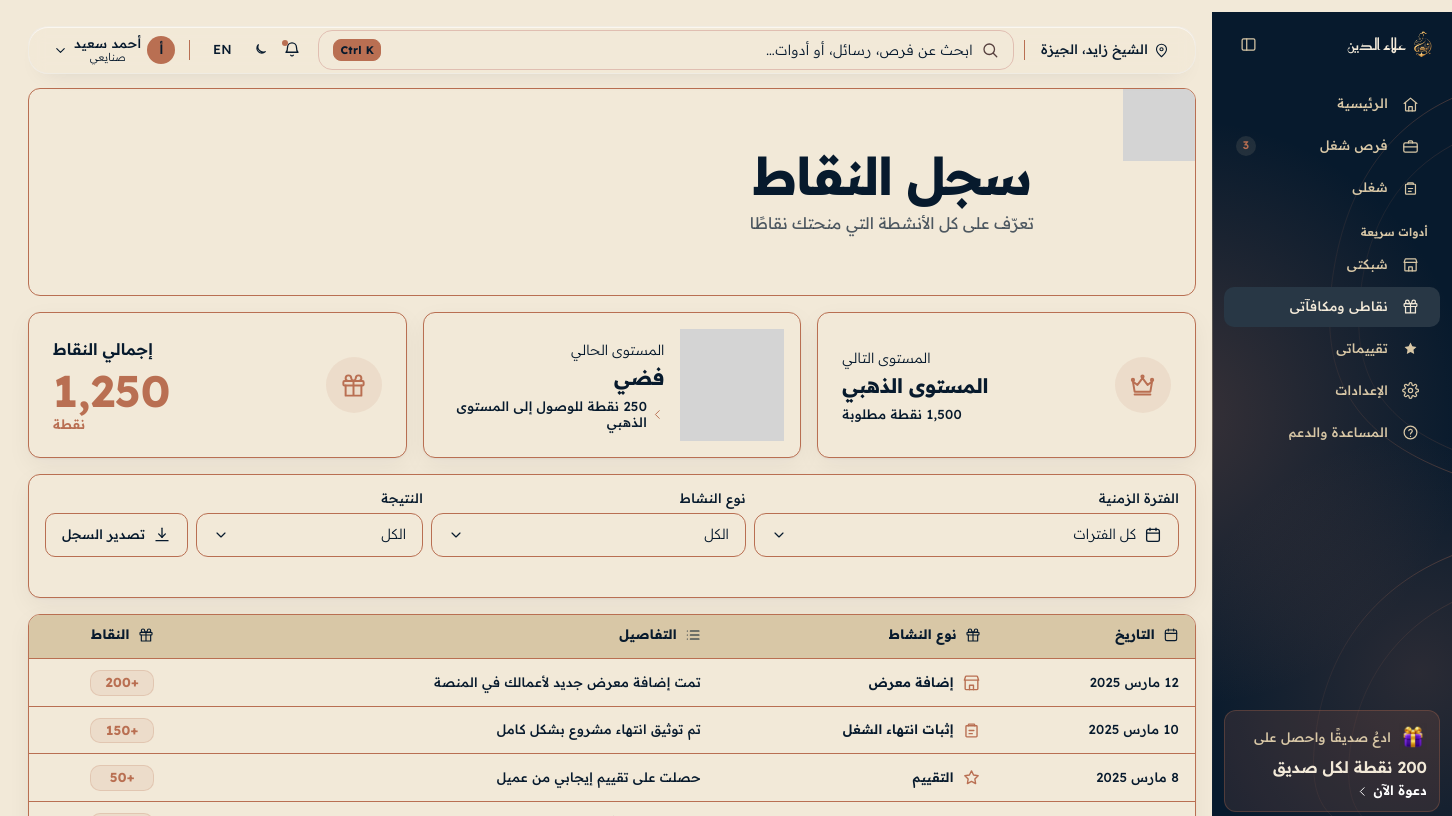
Test: PointsHistoryPage › filters the preview fixture locally
Click the button "كل الفترات" at (1105, 534), box [754,513,1179,557]
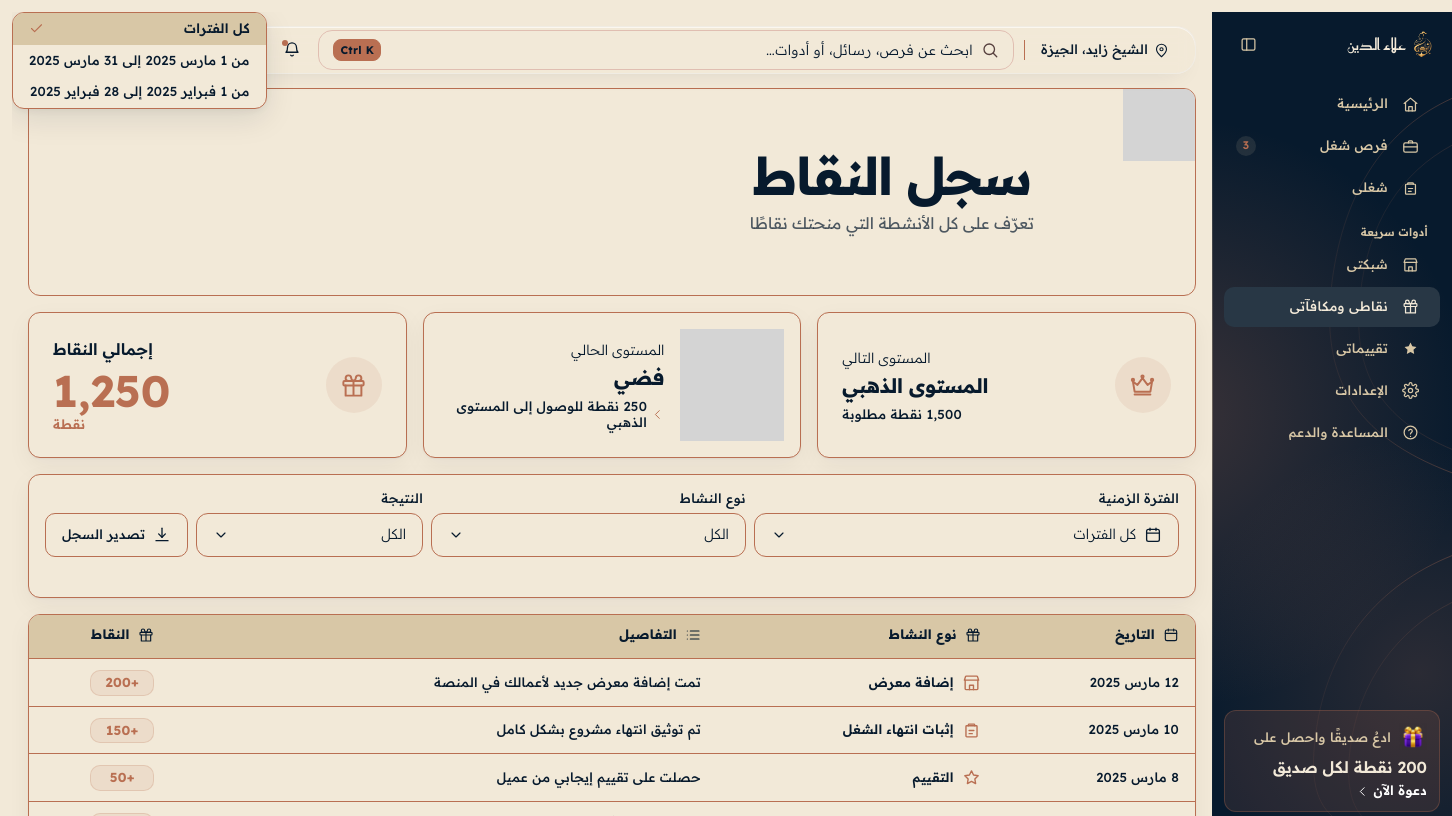
Click the menu item "من 1 فبراير 2025 إلى 28 فبراير 2025" at (139, 92), box [13,76,266,108]
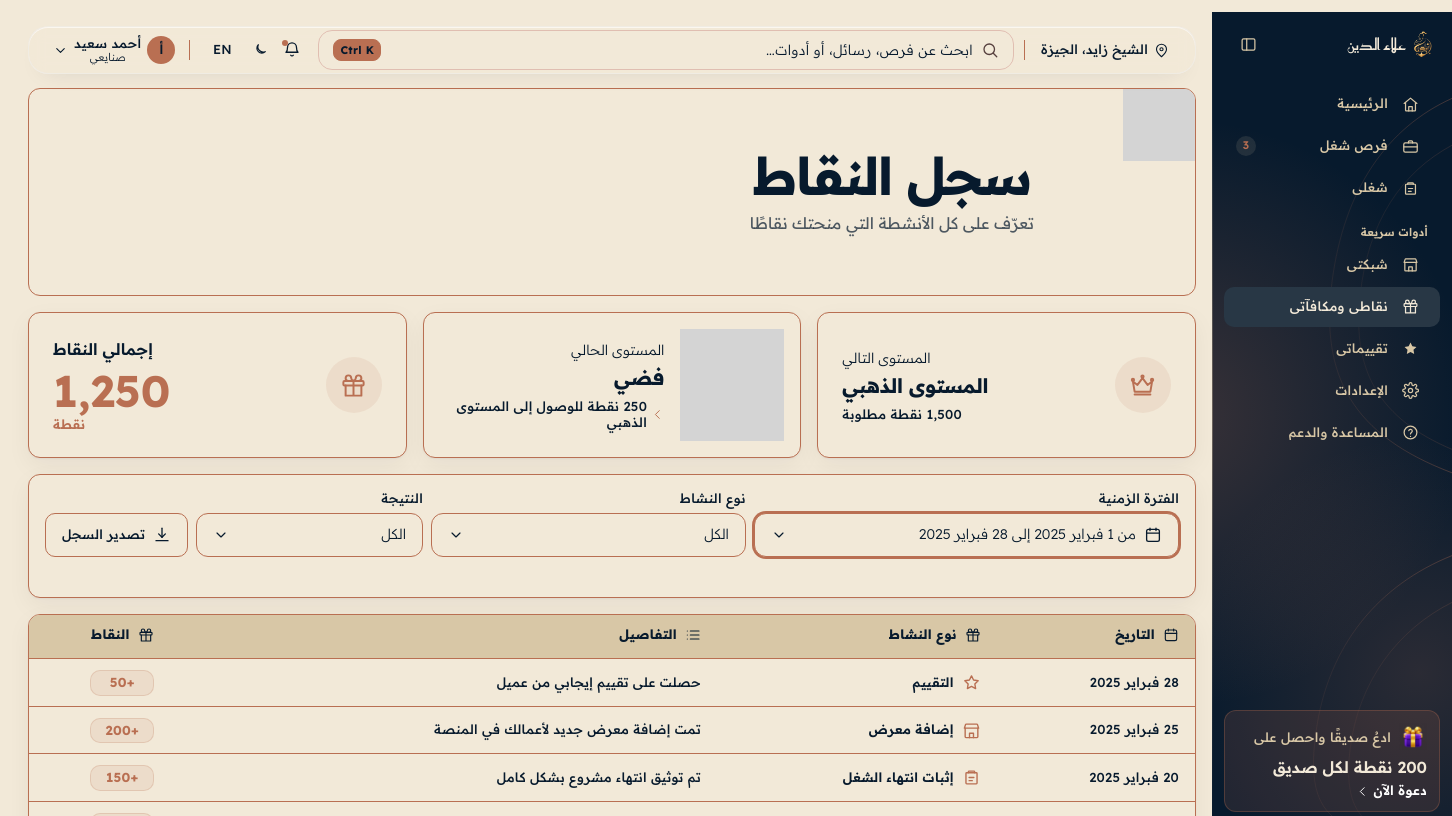
Click the 2nd button "الكل" at (717, 534), box [431,513,746,557]
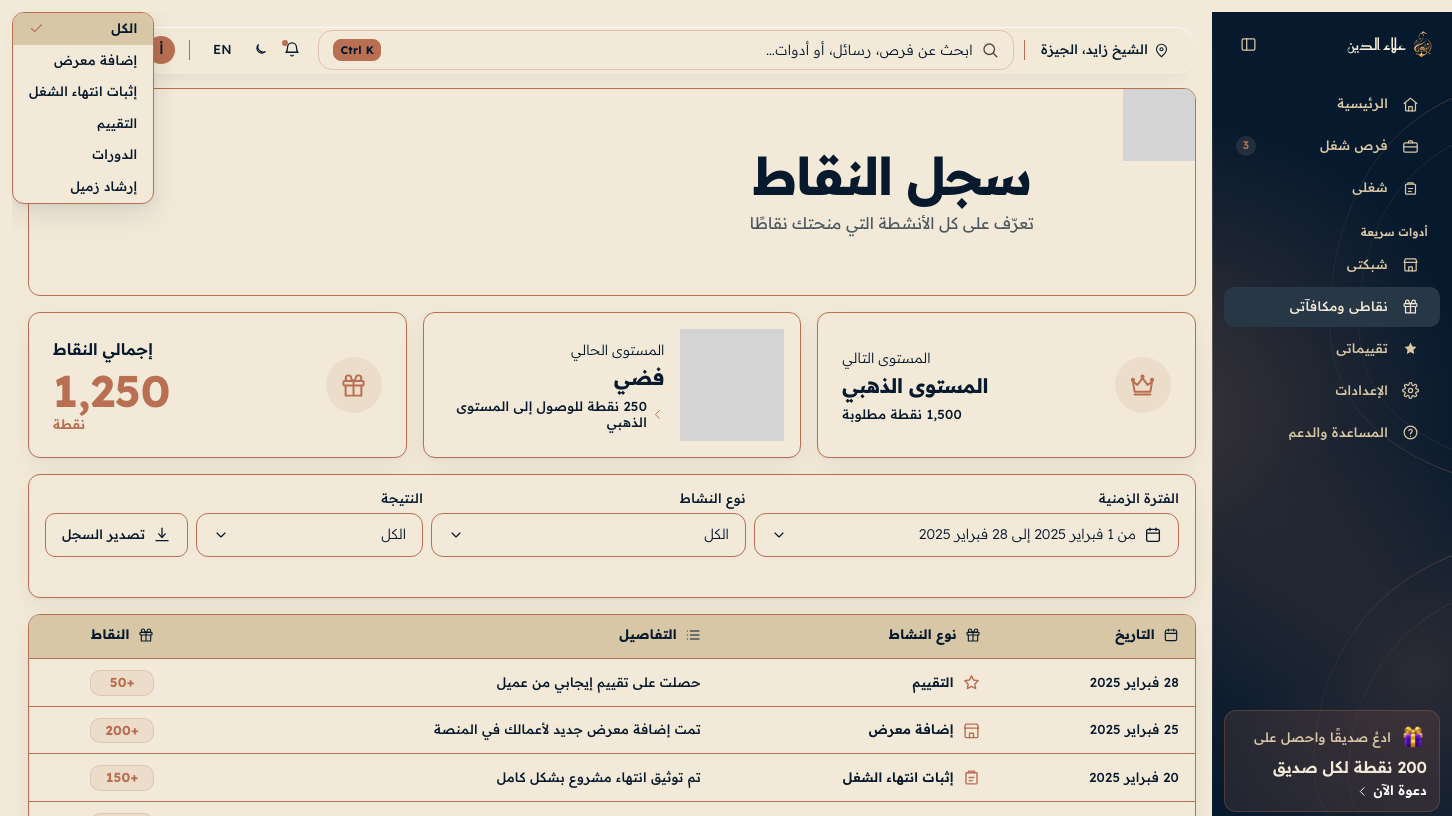
Click the menu item "التقييم" at (83, 124), box [13,108,153,139]
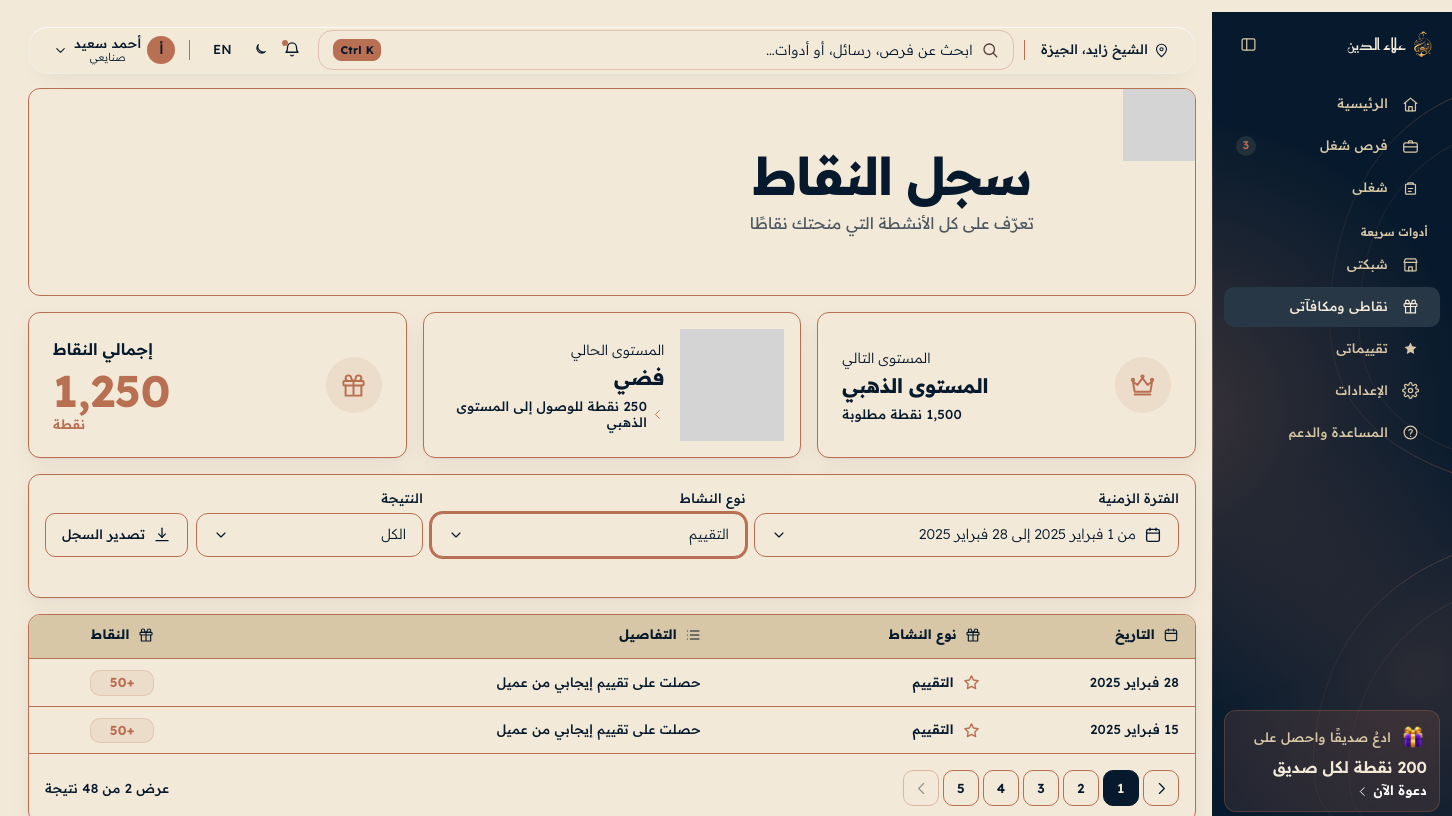
expect the text "عرض 2 من 48 نتيجة" is shown: met, box [45,781,170,796]
